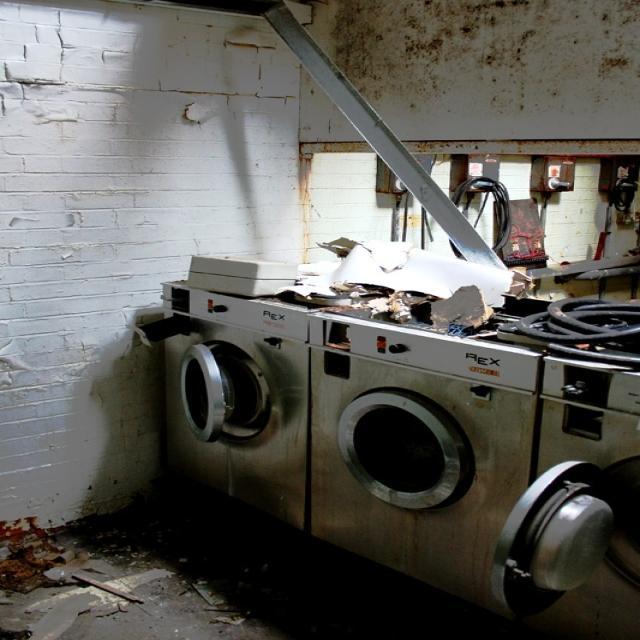E-waste: (147, 233, 640, 639)
